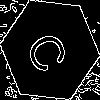C: (25, 25, 77, 77)
